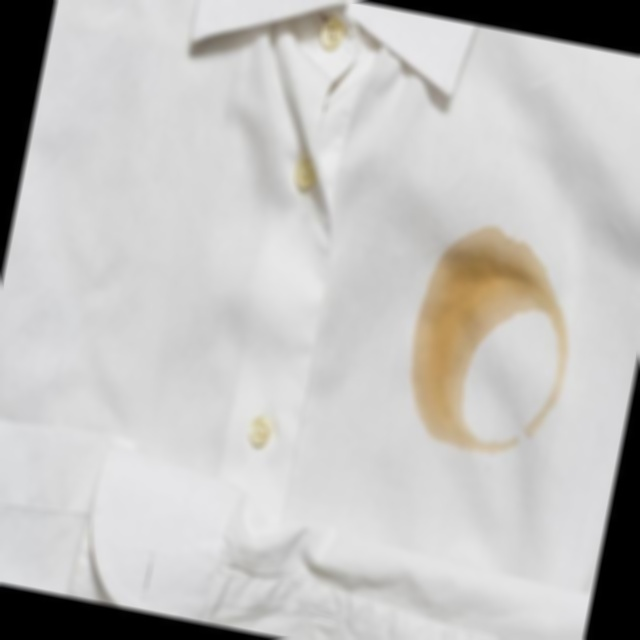coffee: (415, 226, 555, 326), (405, 328, 476, 448)
